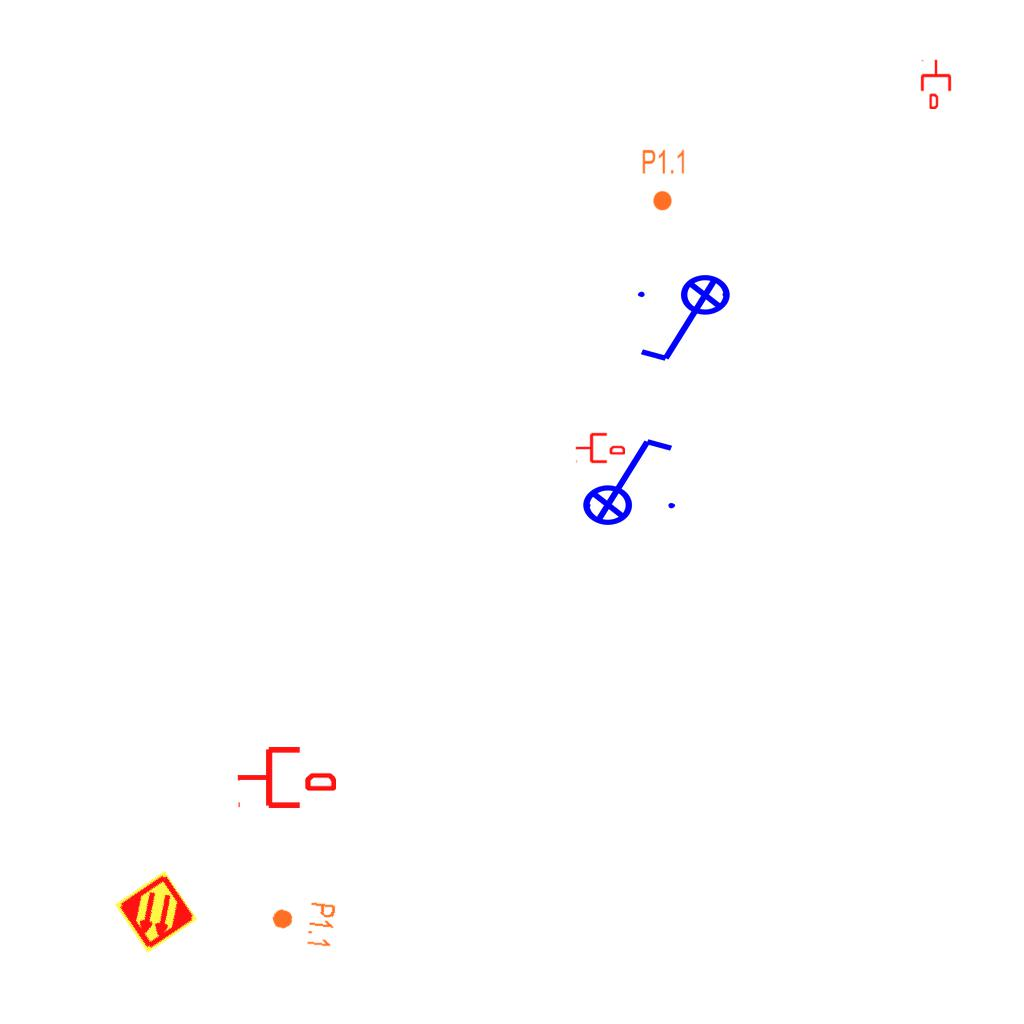ASR_Ansaugrauchmelder: (112, 868, 200, 956)
Ausschalter_beleuchtet: (569, 431, 681, 527), (632, 273, 744, 369)
Datenanschluss_einfach: (236, 743, 336, 812), (919, 59, 953, 109), (575, 431, 625, 465)
Downlight_LED_Einbauleuchten_Flur: (268, 896, 338, 950), (641, 148, 687, 212)
